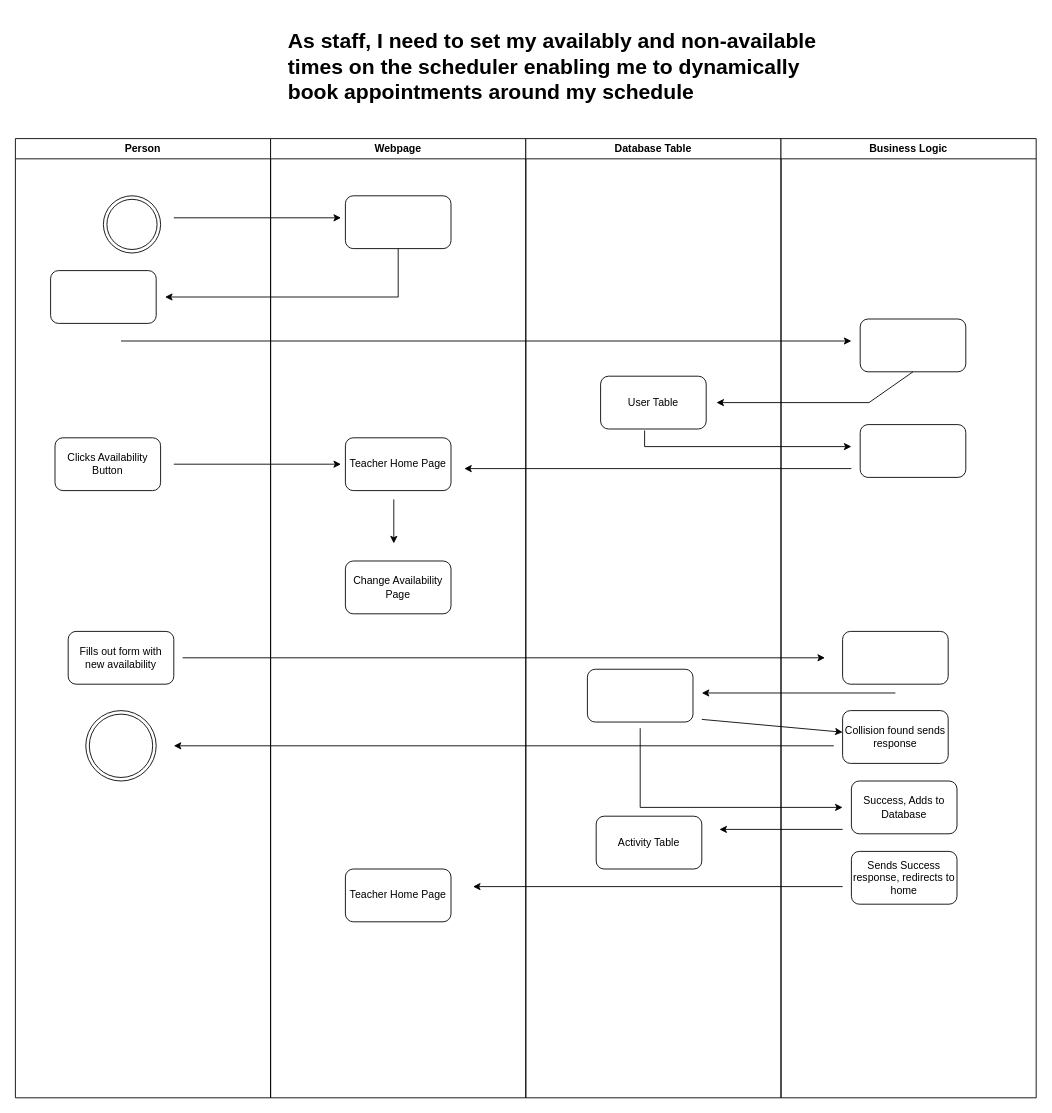
This 1052x1113 diagram has some shape labels left out. The shapes that lost their labels are listed below. From the top down, each one's centre as x and y in pixels, then its label:
point 398,222: Login Page
point 103,296: Staff Enter Credentials
point 912,345: Checks Credentials
point 912,450: Sets cookies, and sends response
point 895,657: Check for collisions
point 640,695: Availability Table
point 120,745: Error page
